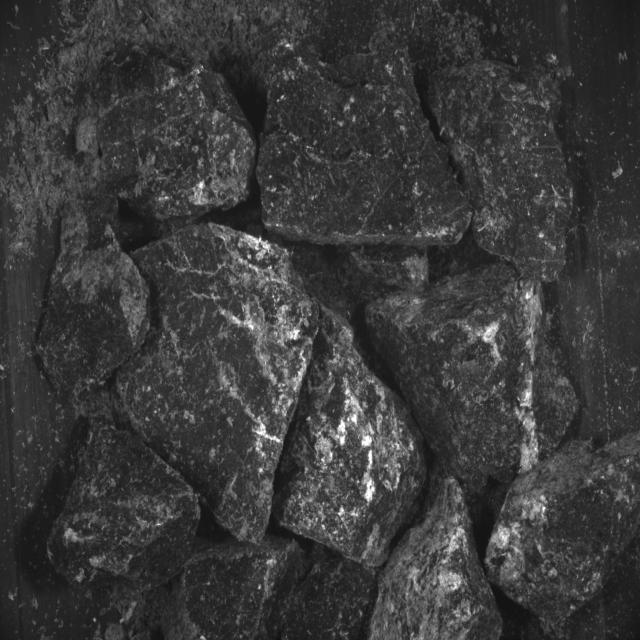Stones: (117, 224, 319, 542), (367, 265, 579, 491), (274, 306, 427, 567), (259, 71, 472, 248), (430, 61, 574, 283), (486, 433, 640, 629), (99, 53, 256, 229), (49, 428, 201, 590), (370, 479, 504, 640), (39, 241, 150, 400), (164, 537, 304, 640), (282, 559, 377, 640)
